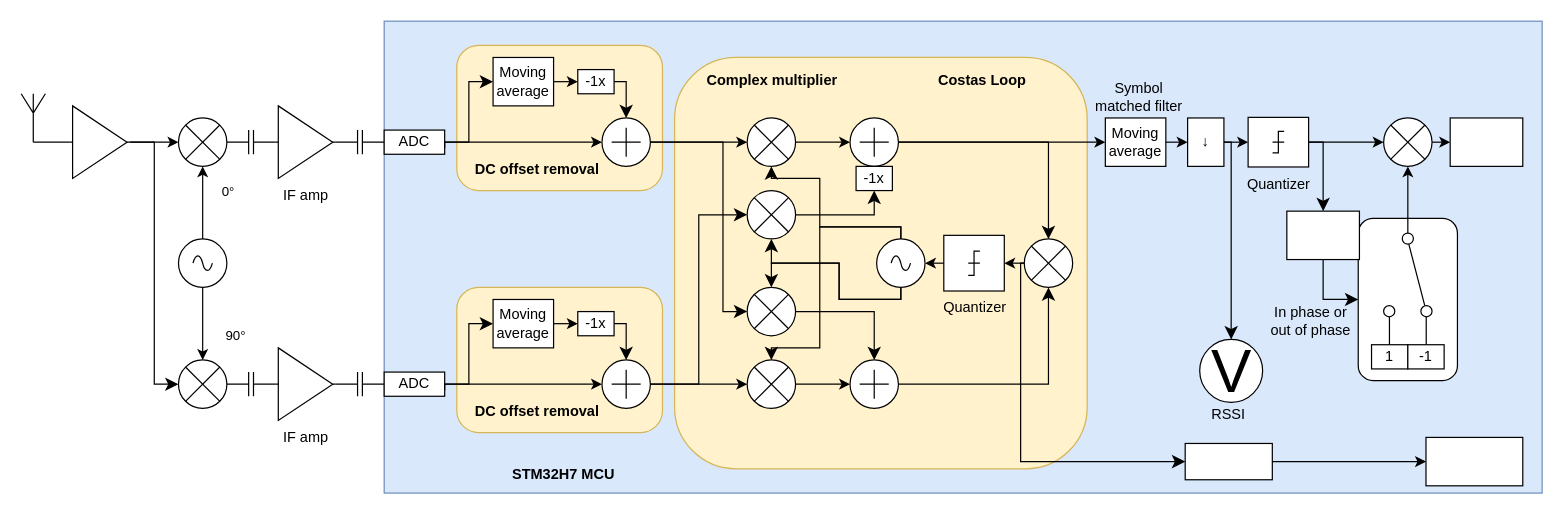
Image size: 1563x514. Some labels were removed from this diagram. Here are the shapes that lost their labels. From the top down, the centre of each, then its label:
At (x=99, y=141): "RF LNA".
At (x=1486, y=141): "Packet decoder".
At (x=1322, y=235): "Syncword detection".
At (x=202, y=262): "LO".
At (x=900, y=262): "Cplx NCO".
At (x=1228, y=461): "Accumulator".
At (x=1474, y=461): "Carrier offset estimation".
